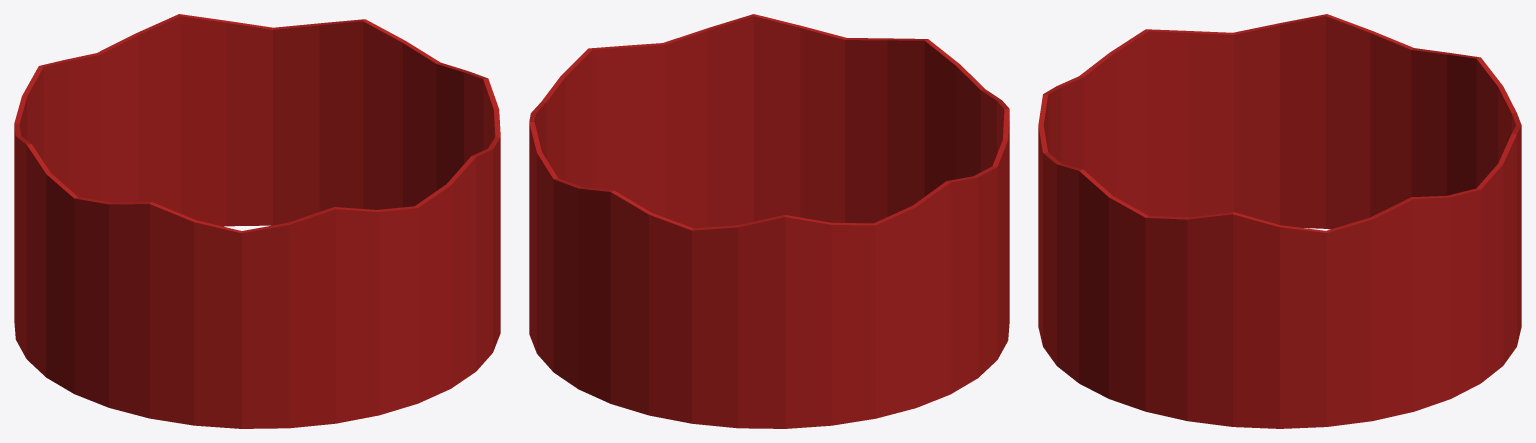
File: Warning AoE.fbx
3 views of the same model, side by side, from view 1: azimuth 30°, elevation 25°; view 2: azimuth 150°, elevation 25°; view 3: azimuth 270°, elevation 25° (orthographic).
Visible parts, largest first — view 1: Circle; view 2: Circle; view 3: Circle.
Part boxes in pixels (x1,y1,x2,y2): Circle: (14,14,500,428); Circle: (529,14,1009,428); Circle: (1038,14,1521,428).
Bounding box in the file's own units: 205 × 99.32 × 205.
